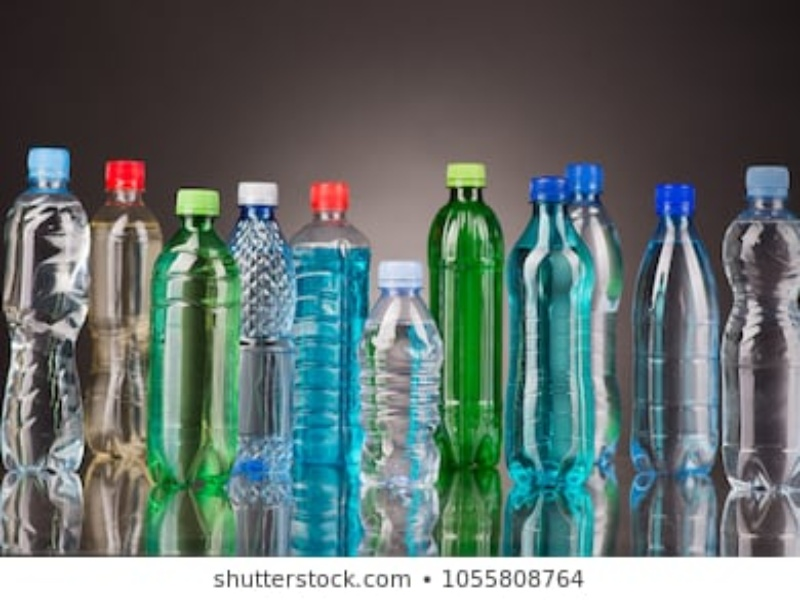bottle-cap: (307, 178, 354, 214), (26, 149, 72, 177), (175, 188, 221, 216), (101, 159, 147, 187), (375, 259, 421, 287), (234, 179, 280, 207), (654, 184, 700, 212), (444, 162, 490, 190), (528, 176, 574, 204), (745, 166, 791, 194), (568, 162, 606, 194)
plastic-bottle: (505, 173, 593, 494), (715, 163, 800, 487), (6, 146, 89, 466), (148, 186, 234, 490), (289, 176, 371, 470), (639, 181, 717, 479), (431, 161, 505, 469), (359, 259, 448, 490), (91, 155, 157, 458), (227, 178, 289, 478), (567, 159, 625, 465)
